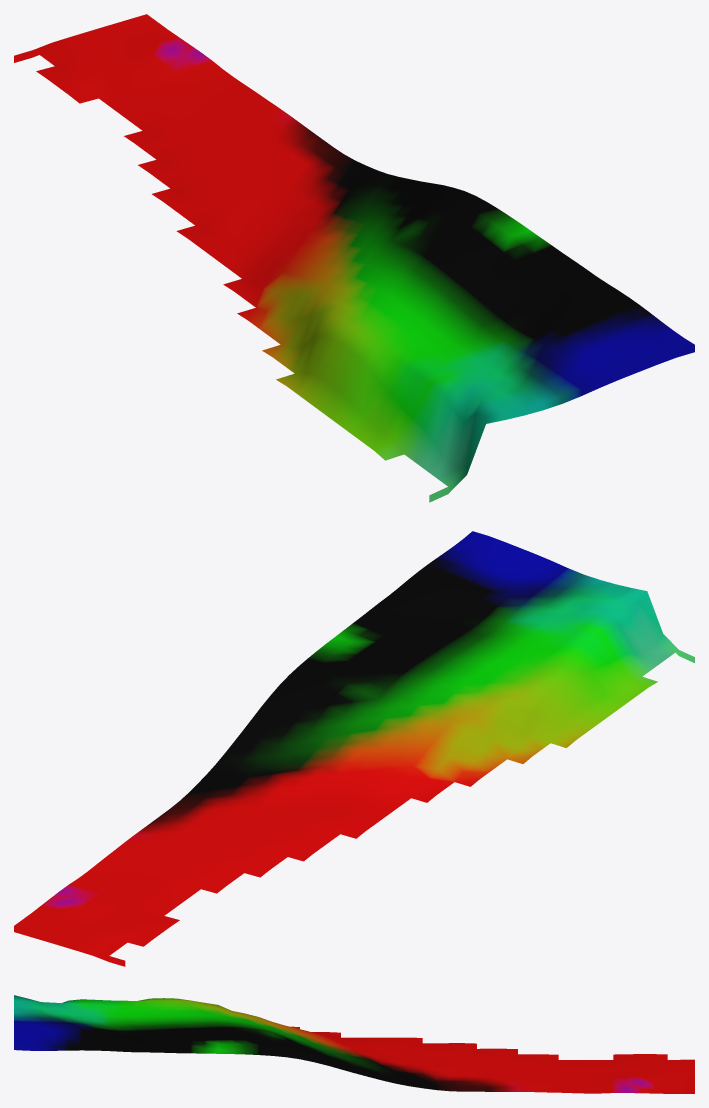
Rendered from coast_9_13.glb.
3 renders of one model, top to bottom at view 1: azimuth 30°, elevation 25°; view 2: azimuth 150°, elevation 25°; view 3: azimuth 270°, elevation 25°, orthographic. The views are drawn at different scales.
Parts seen in each view (by area): view 1: terrain; view 2: terrain; view 3: terrain.
Part boxes in pixels (x1,y1,x2,y2): terrain: (14,14,694,502); terrain: (14,531,694,966); terrain: (14,995,694,1093).
Size of the model in its own units: 56 by 18.78 by 200.
